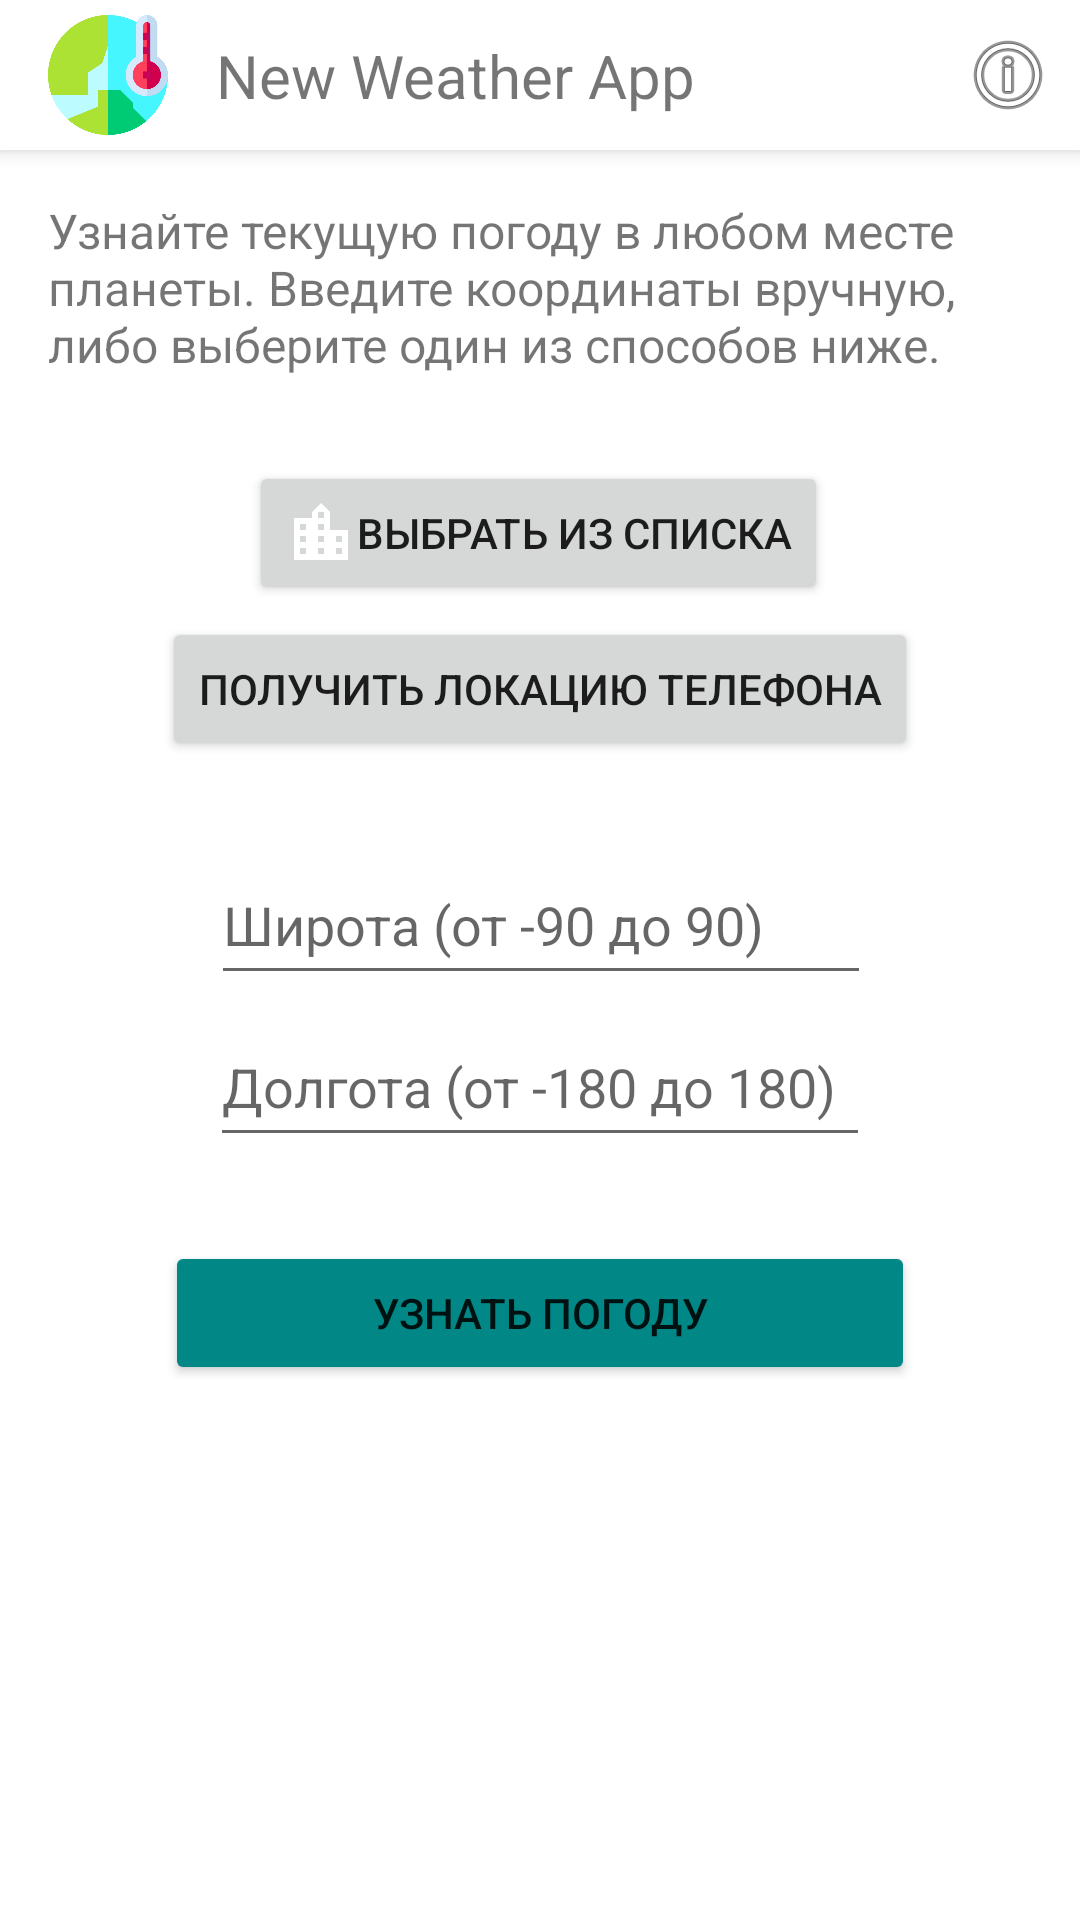

Named icons in this screenshot (1080*1920) and their centers, [x,y]:
info details: [1008,75]
